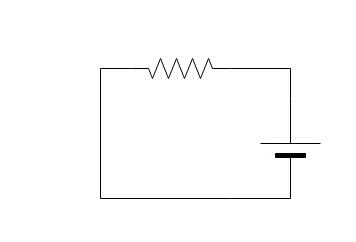resistor: (137, 52, 227, 87)
